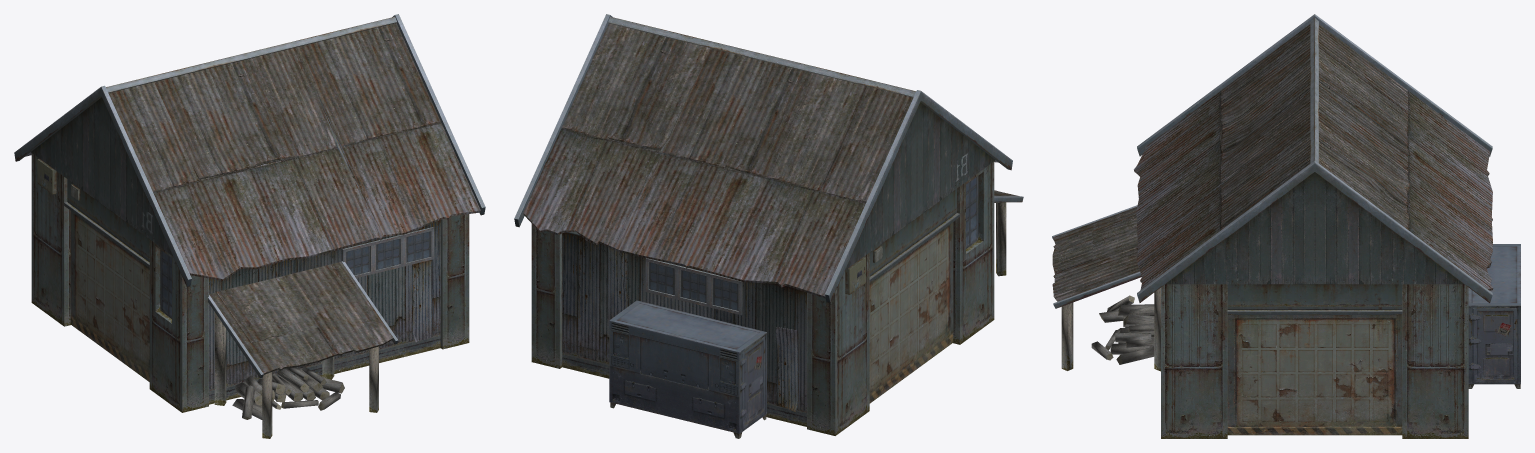
The model's file is Building_Pve01XhtBuilding01_lod1.glb.
The picture shows the model from 3 angles, left to right: view 1: azimuth 30°, elevation 25°; view 2: azimuth 150°, elevation 25°; view 3: azimuth 270°, elevation 25°; orthographic projection. The views are drawn at different scales.
Parts seen in each view (by area): view 1: pve01_xht_building01_lod1_0; view 2: pve01_xht_building01_lod1_0; view 3: pve01_xht_building01_lod1_0.
Part boxes in pixels (x1,y1,x2,y2): pve01_xht_building01_lod1_0: (14,14,485,438); pve01_xht_building01_lod1_0: (514,14,1023,438); pve01_xht_building01_lod1_0: (1052,14,1520,438).
Size of the model in its own units: 10.64 by 9.33 by 14.2.
2 materials, 2 textured.
